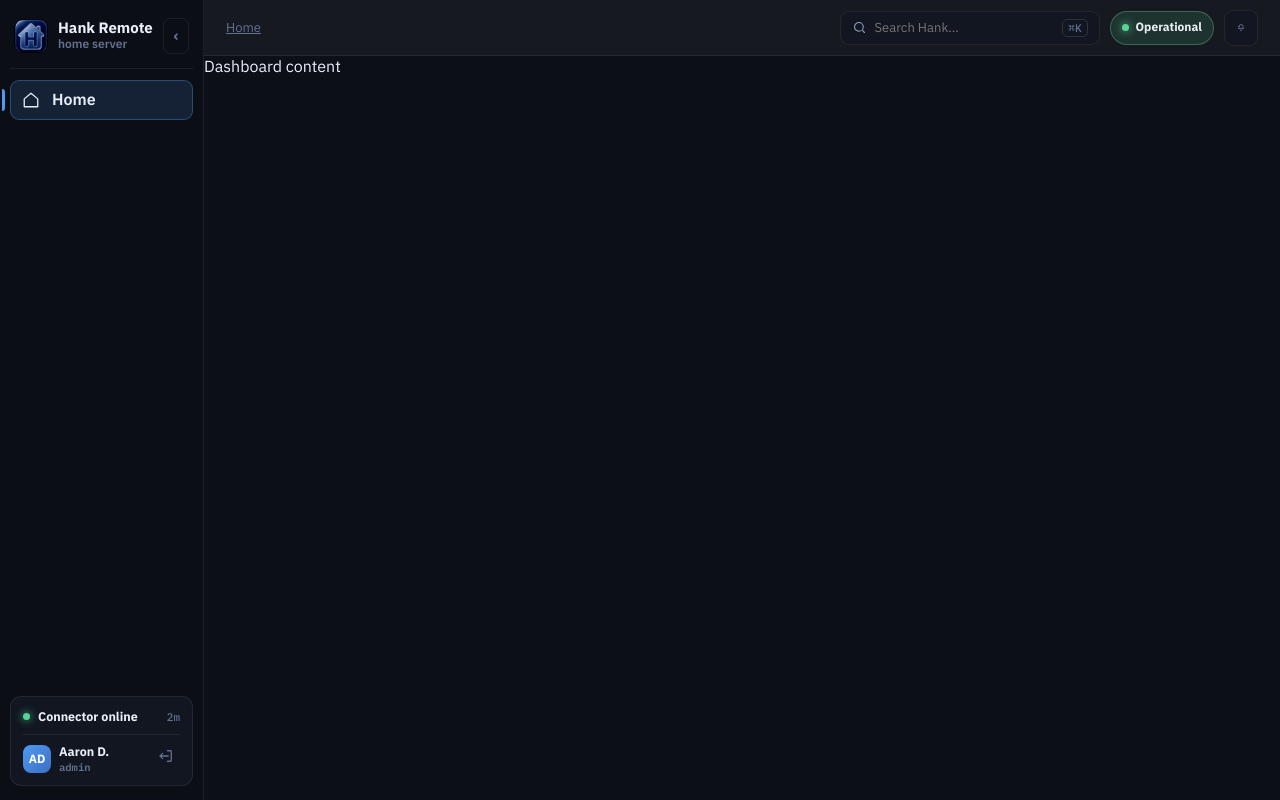
Test: Shell › distinguishes a failed global search from no matches
Type "router" into the search field named "Search" at (964, 27), box [874,19,1054,36]
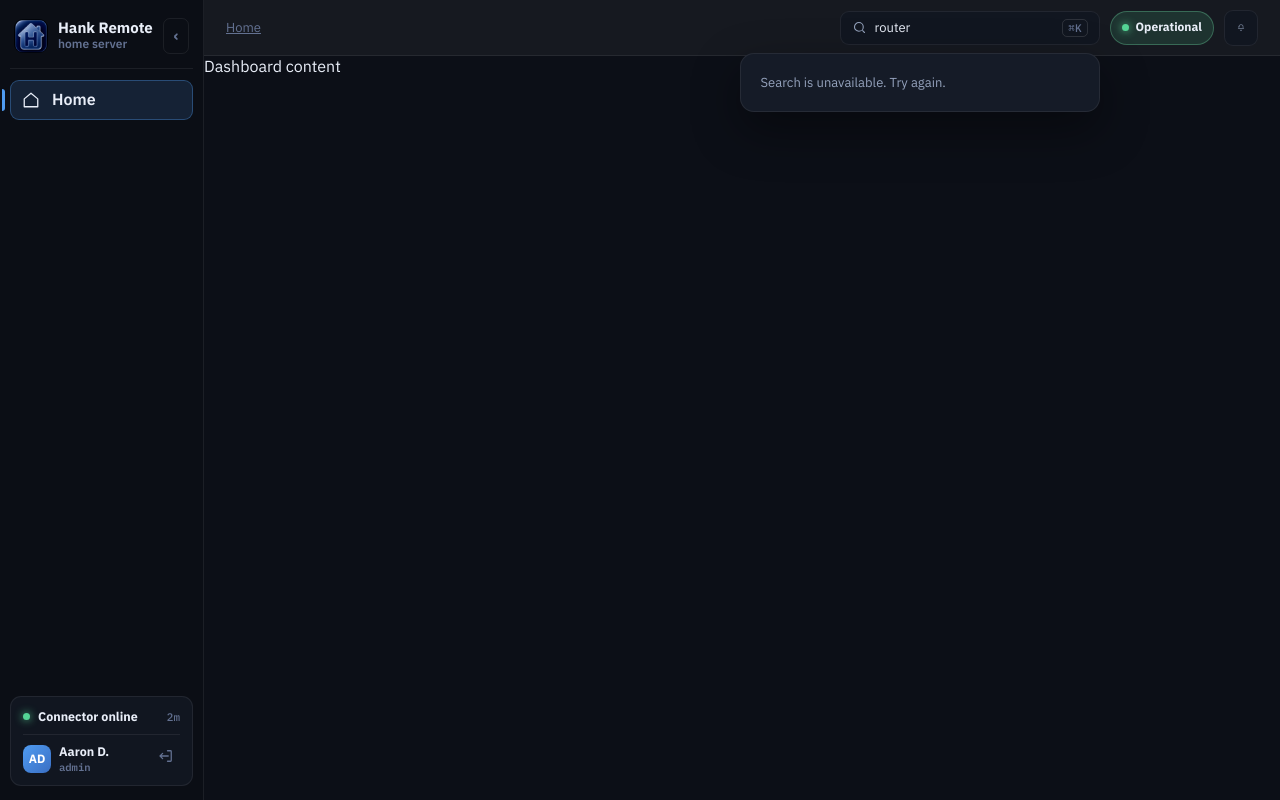
Now the message shows "Search is unavailable", box [760,74,946,90]
